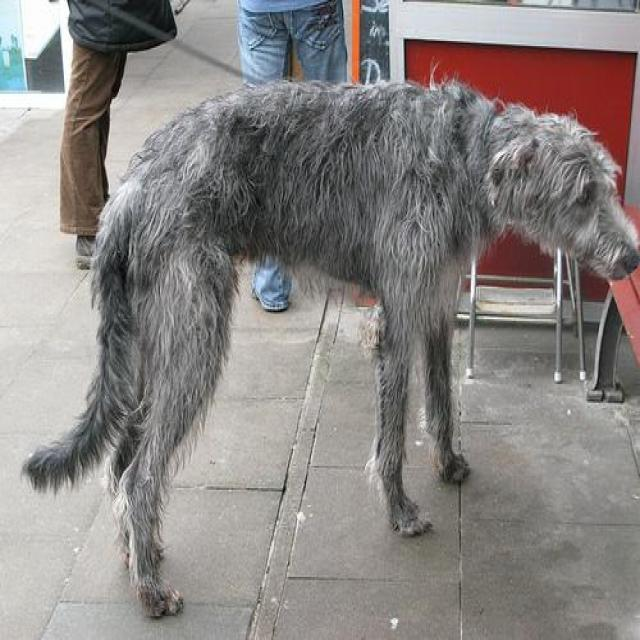good: (24, 73, 640, 622)
